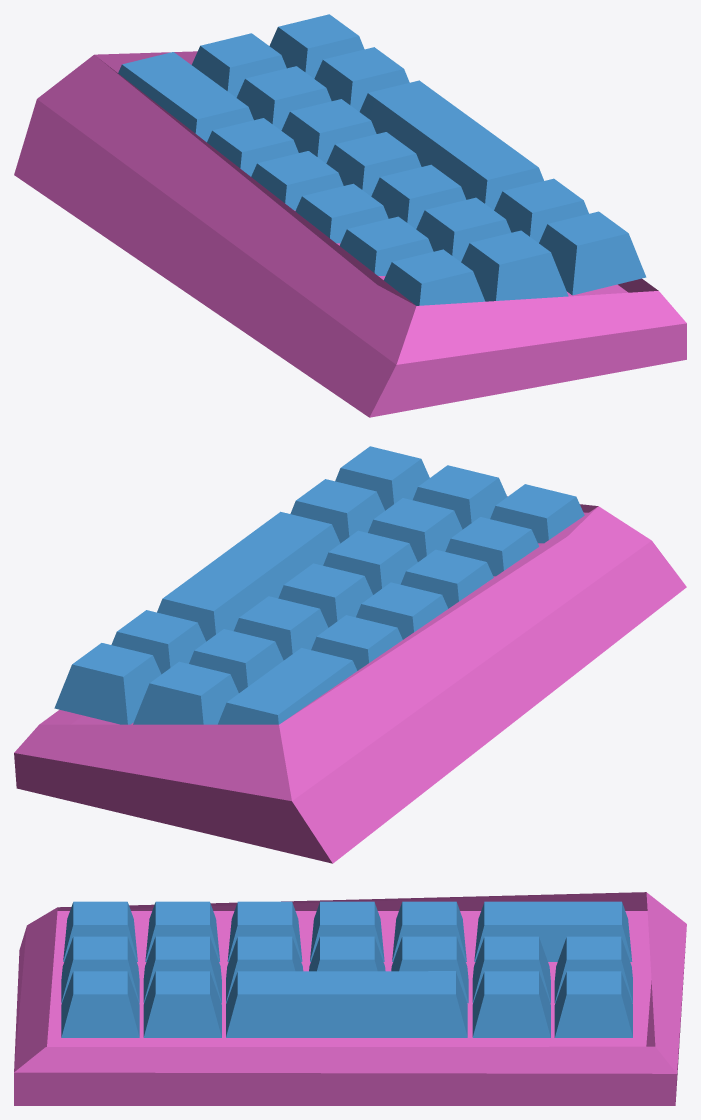
The model's file is Keyboard.glb.
The picture shows the model from 3 angles, top to bottom: view 1: azimuth 30°, elevation 25°; view 2: azimuth 150°, elevation 25°; view 3: azimuth 270°, elevation 25°; orthographic projection. The views are drawn at different scales.
Visible parts, largest first — view 1: Plane, Plane.001; view 2: Plane, Plane.001; view 3: Plane.001, Plane.
Part boxes in pixels (x1,y1,x2,y2): Plane: (14, 51, 686, 417); Plane.001: (118, 14, 646, 305); Plane: (14, 496, 686, 863); Plane.001: (54, 446, 584, 724); Plane.001: (61, 901, 632, 1037); Plane: (14, 892, 686, 1105).
Bounding box in the file's own units: 4.11 × 1.41 × 8.27.
